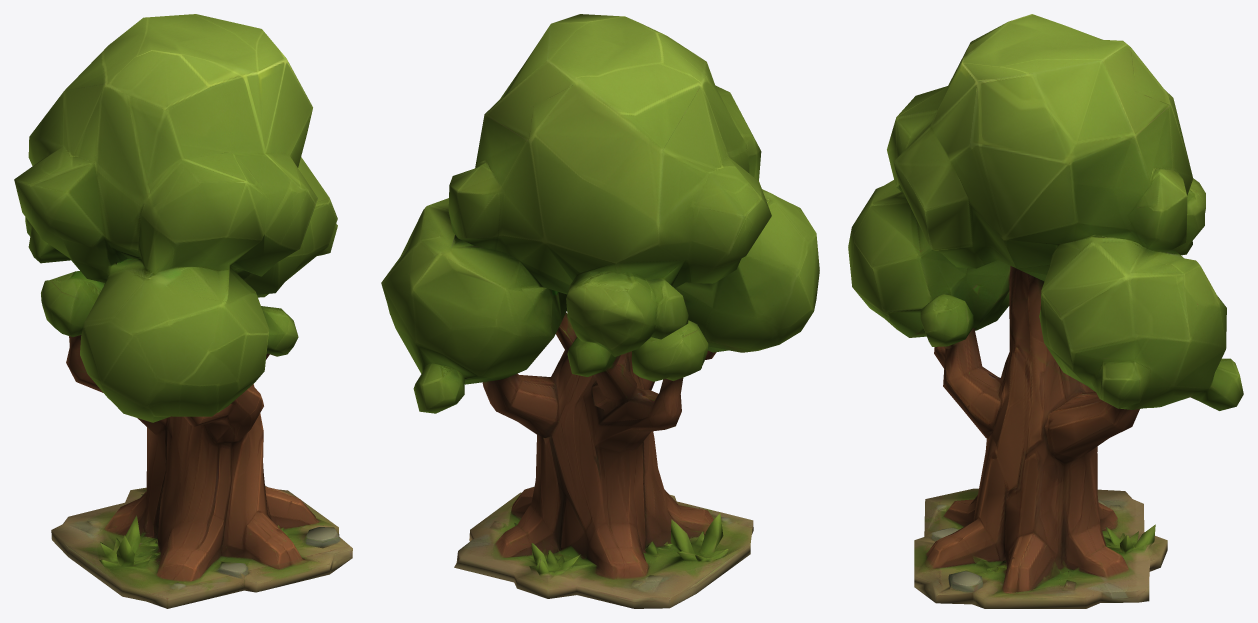
File: Tree1.fbx
3 renders of one model, left to right at view 1: azimuth 30°, elevation 25°; view 2: azimuth 150°, elevation 25°; view 3: azimuth 270°, elevation 25°, orthographic.
Visible parts, largest first — view 1: Mesh_0; view 2: Mesh_0; view 3: Mesh_0.
Part boxes in pixels (box(x1,y1,x2,y2)): Mesh_0: box(14, 14, 352, 608); Mesh_0: box(381, 14, 819, 608); Mesh_0: box(848, 14, 1243, 608).
Size of the model in its own units: 131 by 191 by 133.
Materials: 1 (1 with a texture image).
